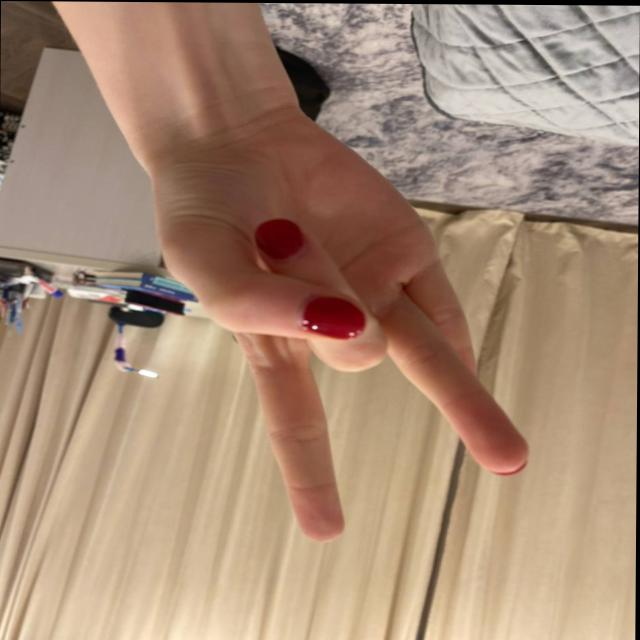r: (123, 157, 560, 539)
